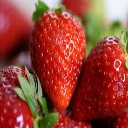strawberry: (29, 4, 87, 113)
